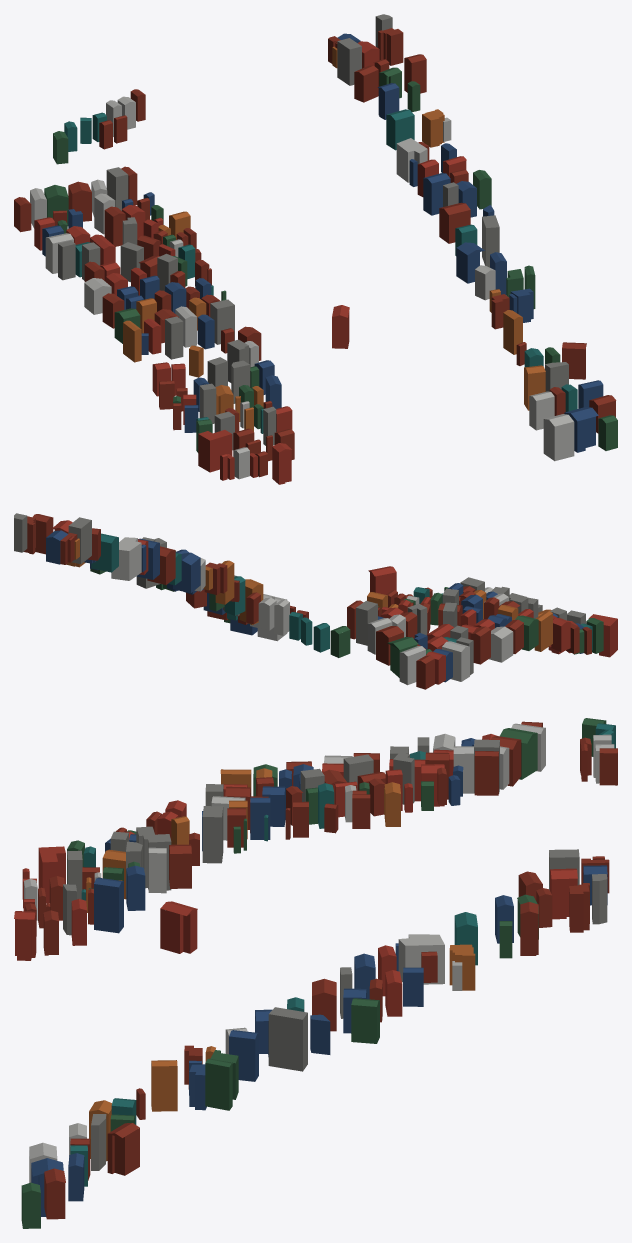
The model's file is near-17-109440-59470.25ca155a.glb.
The picture shows the model from 3 angles, top to bottom: view 1: azimuth 30°, elevation 25°; view 2: azimuth 150°, elevation 25°; view 3: azimuth 270°, elevation 25°; orthographic projection. The views are drawn at different scales.
Size of the model in its own units: 302 by 187 by 296.
